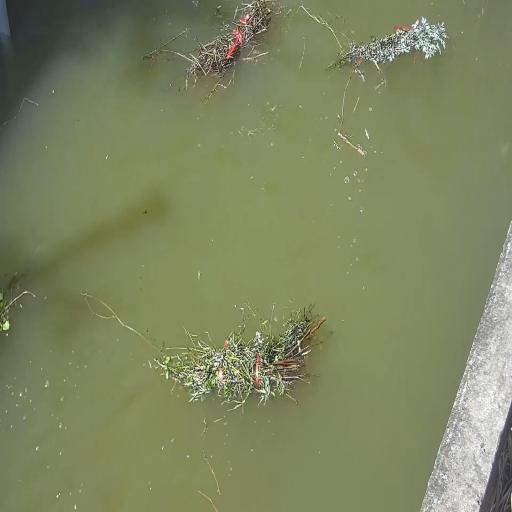twig: (172, 282, 312, 400), (169, 0, 276, 89), (324, 8, 448, 80), (0, 265, 37, 336)
